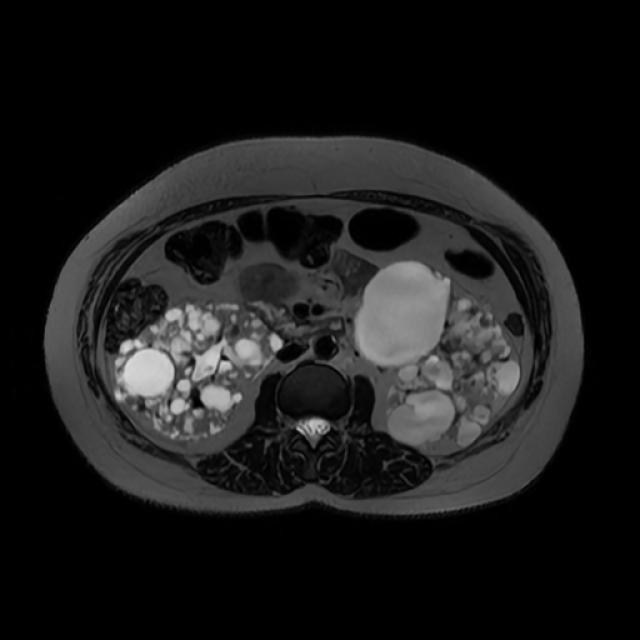sag: (115, 302, 282, 435)
sol: (356, 261, 518, 444)
